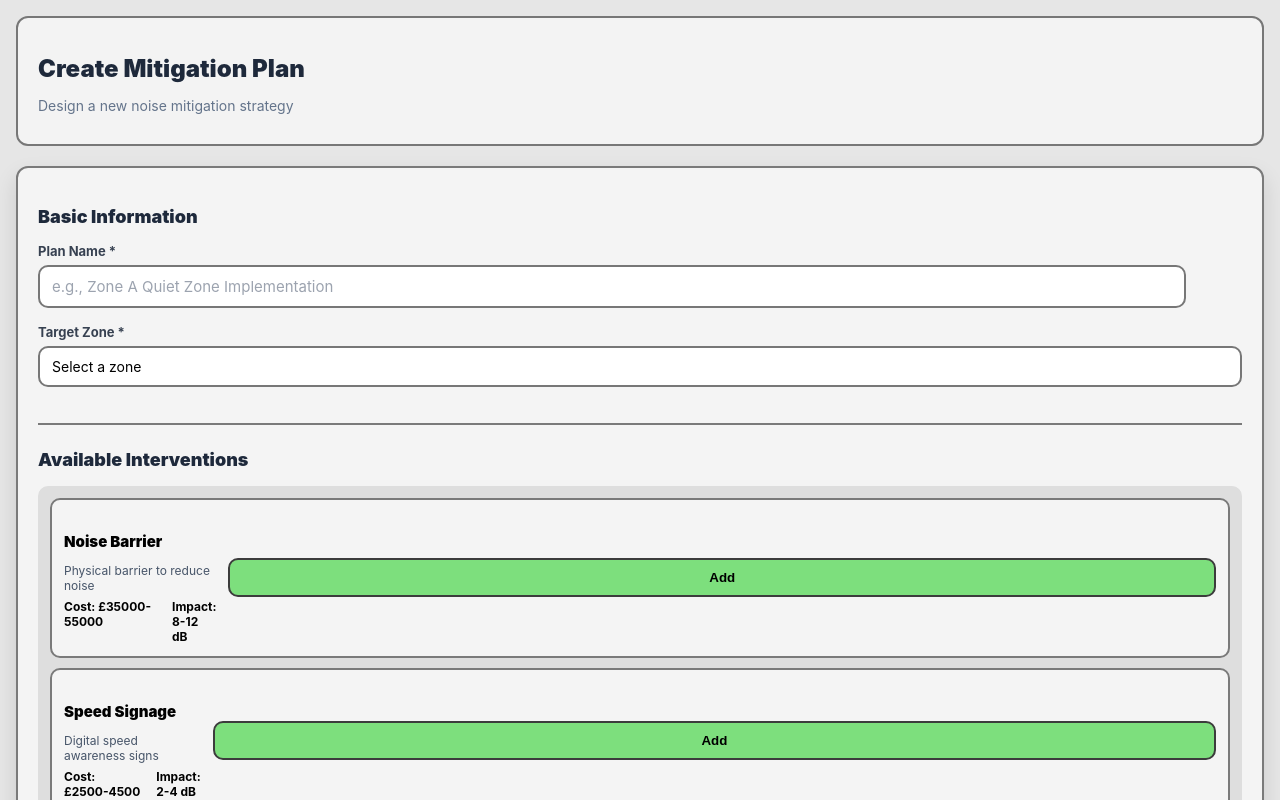
Scenario: PlanBuilder › calculates total cost correctly
The image size is (1280, 800).
Click the button "Add" next to "Physical barrier to reduce noise".
click(722, 578)  # box [228,558,1216,597]
(page scrolled)
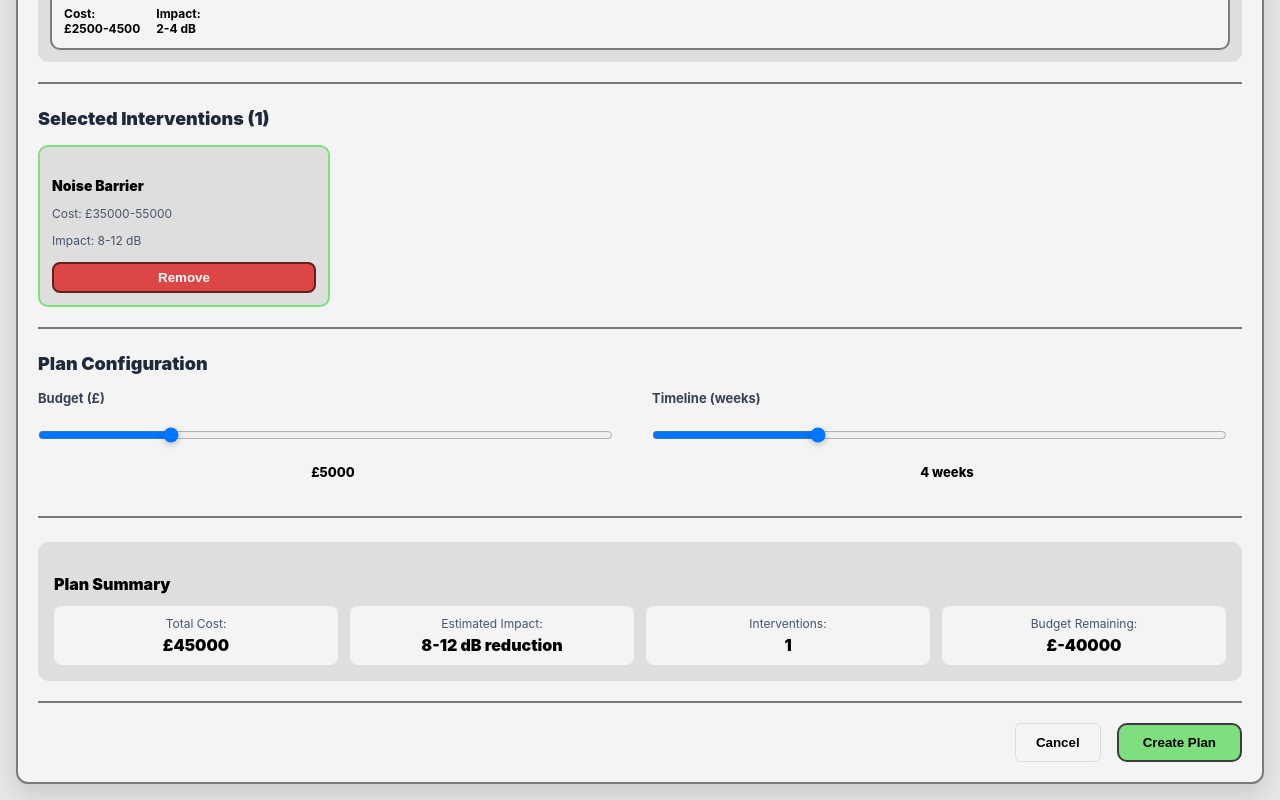
Result: the text "£45000" is shown at [163,635,229,655]
